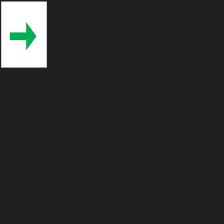right: (7, 18, 38, 53)
